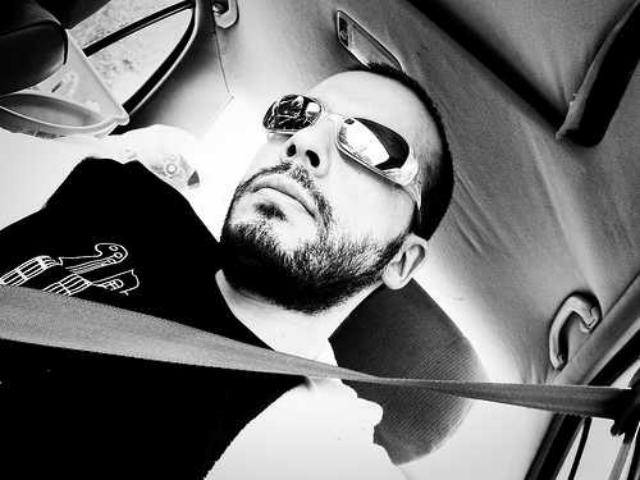Seatbelt: (0, 278, 640, 456)
